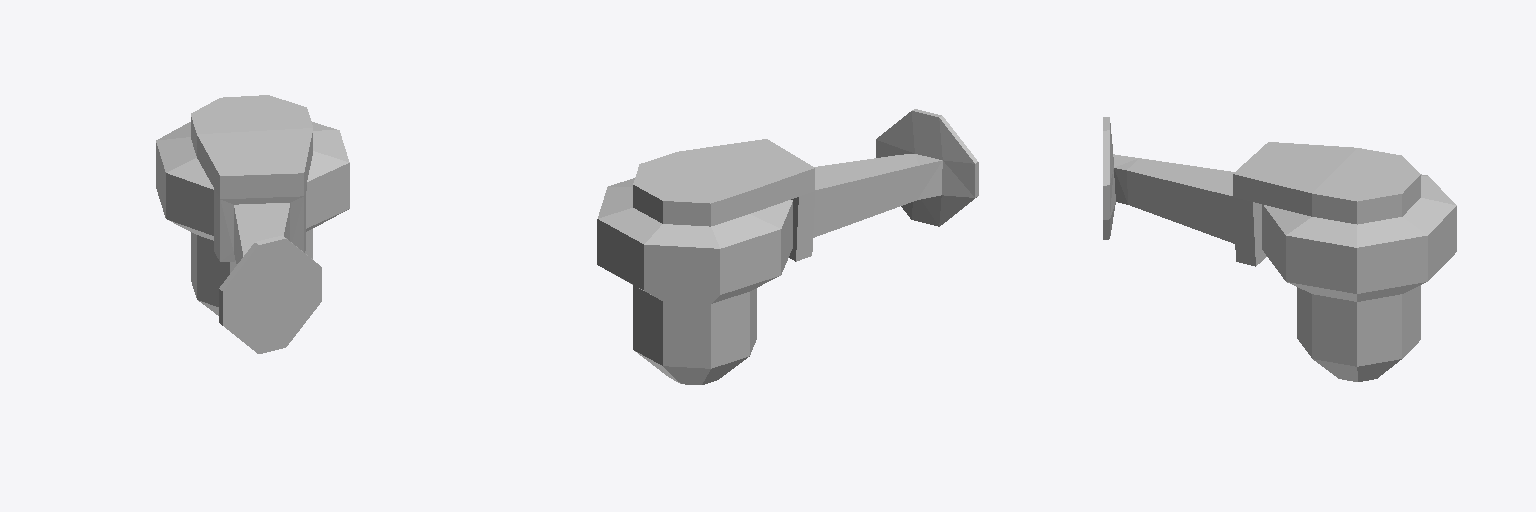
File: neckj1.obj
3 renders of one model, left to right at view 1: azimuth 30°, elevation 25°; view 2: azimuth 150°, elevation 25°; view 3: azimuth 270°, elevation 25°, orthographic.
Size of the model in its own units: 0.1185 by 0.0912 by 0.1489.